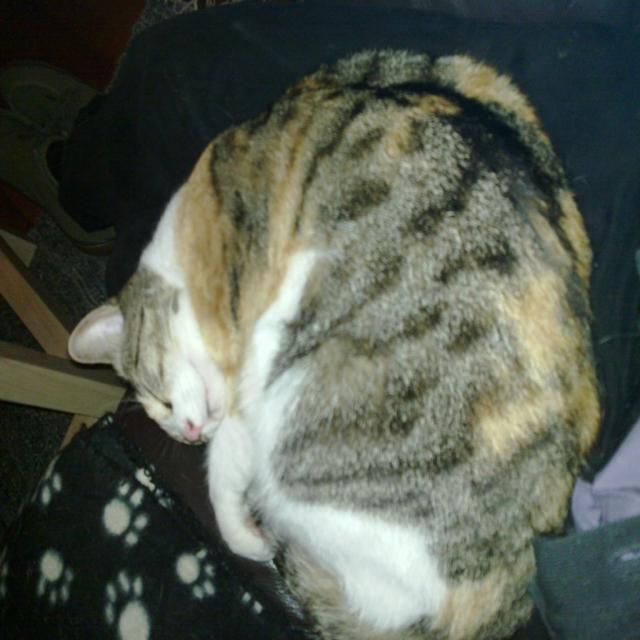Cat: (65, 48, 609, 638)
